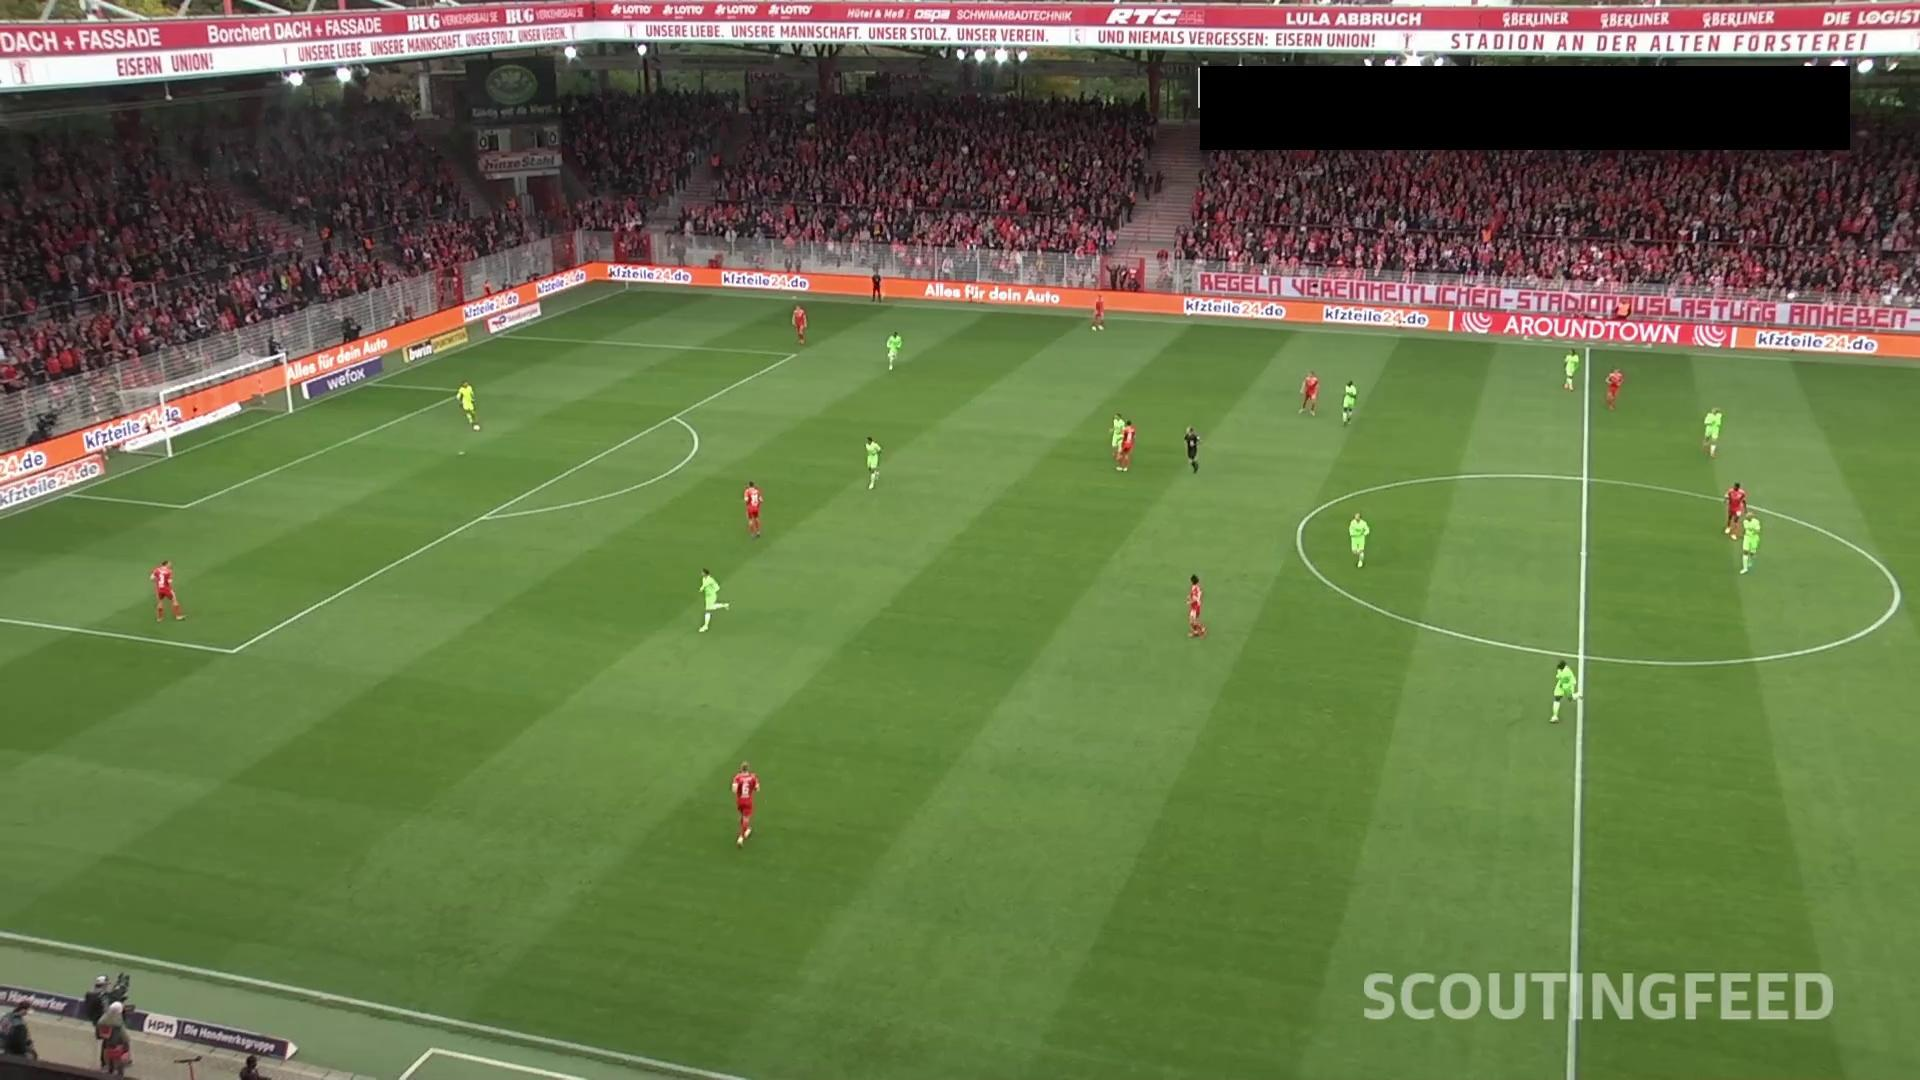Location-of-ball: (467, 413, 492, 436)
